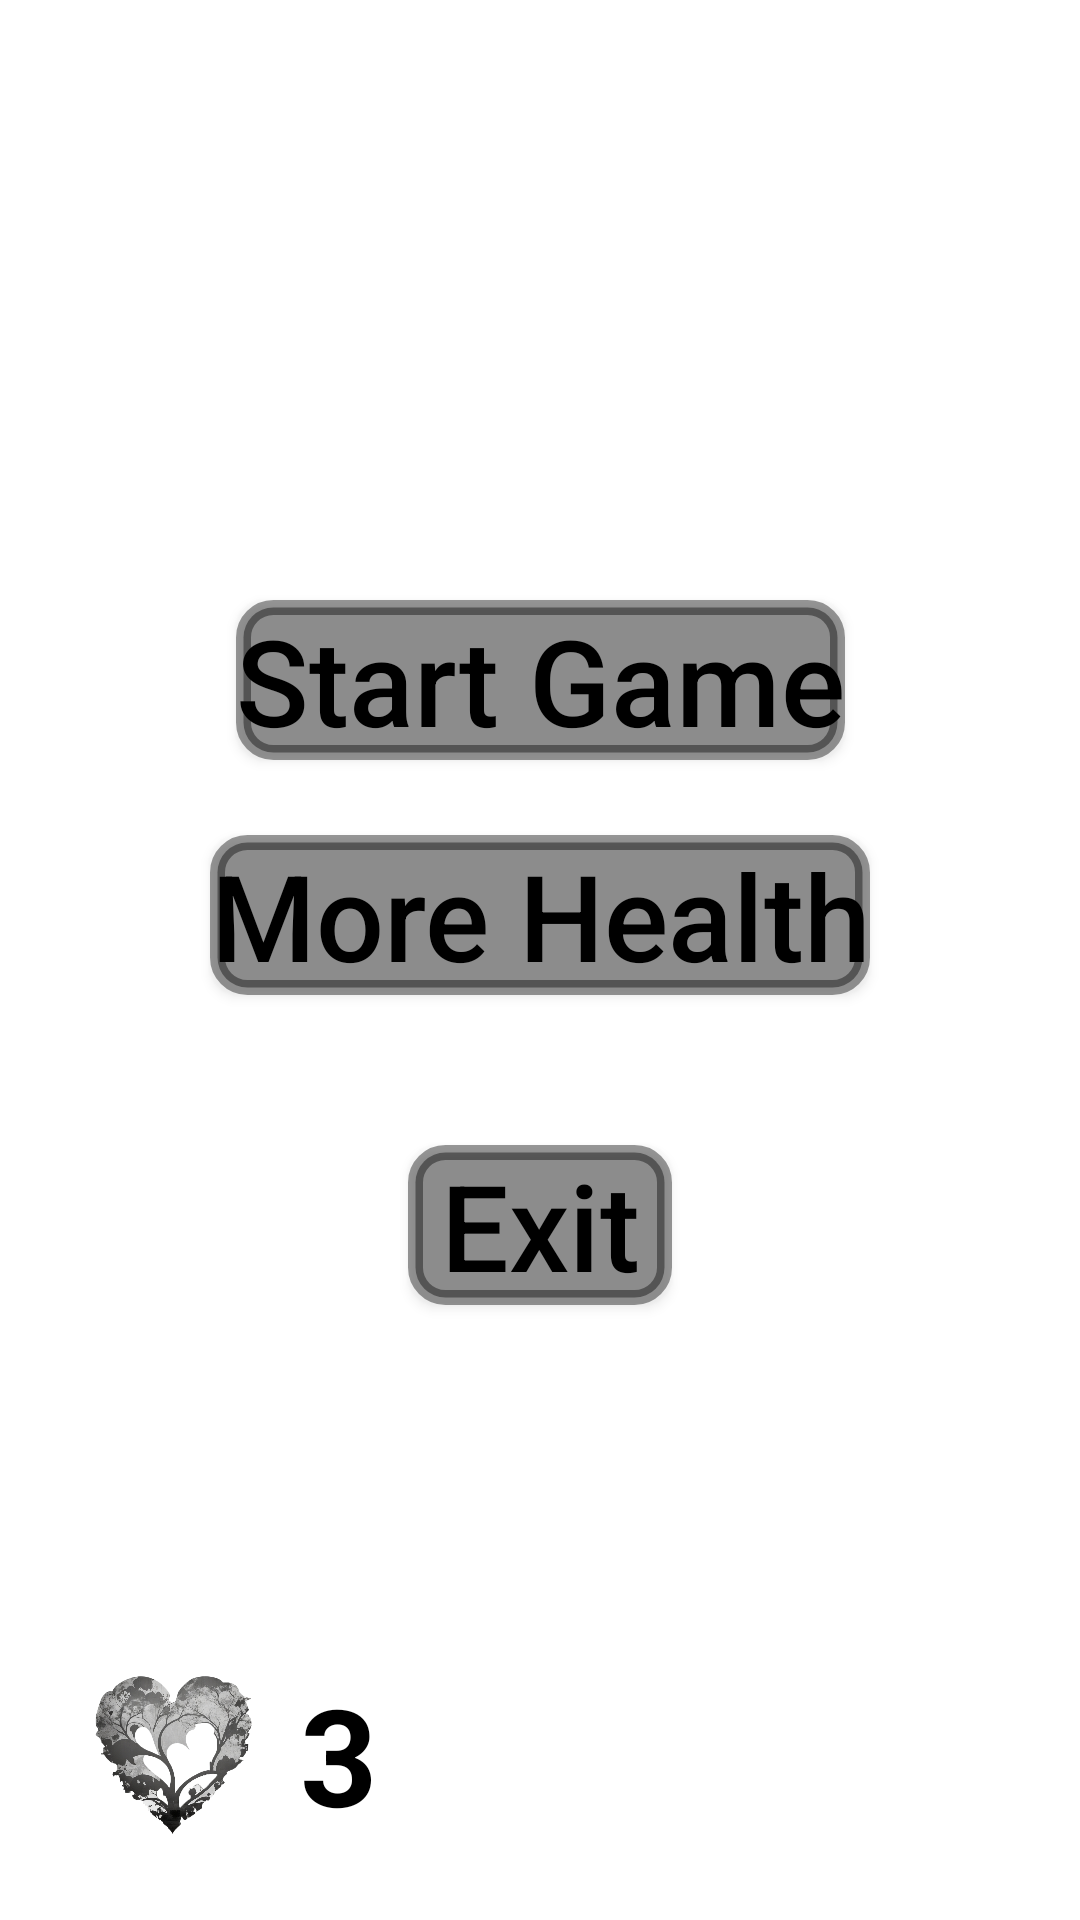

Screen size 1080 × 1920. Icon name, then its center in pixels as point (x, y):
health: point (174, 1755)
